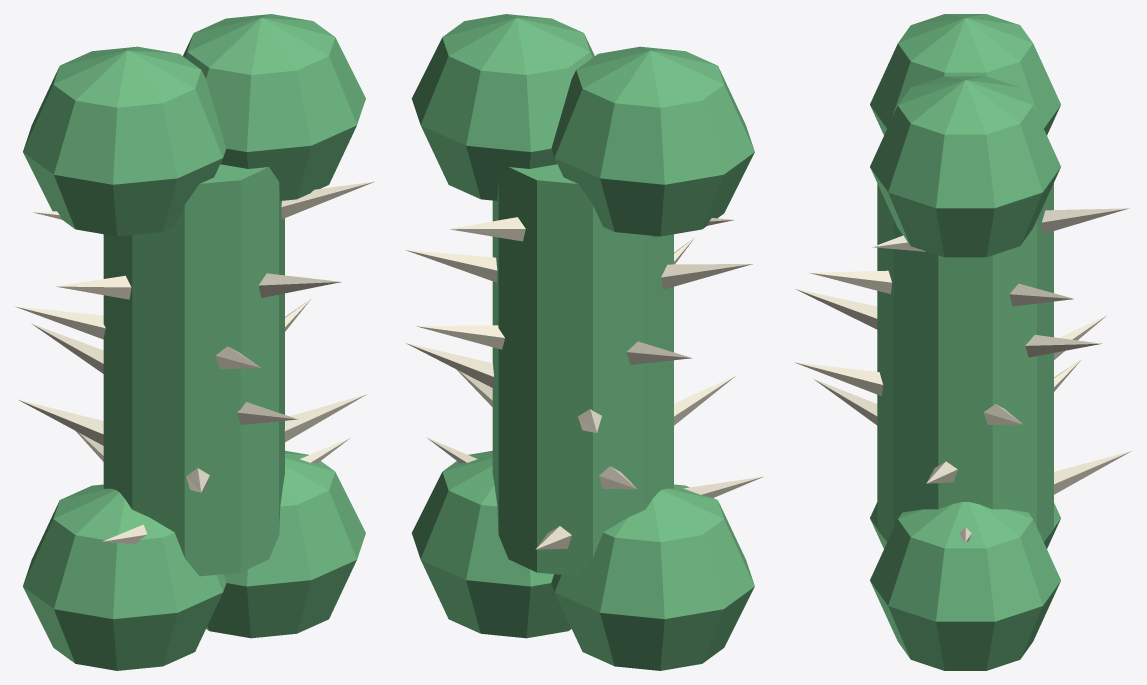
The model's file is magnet.glb.
The picture shows the model from 3 angles, left to right: view 1: azimuth 30°, elevation 25°; view 2: azimuth 150°, elevation 25°; view 3: azimuth 270°, elevation 25°; orthographic projection. The views are drawn at different scales.
Parts seen in each view (by area): view 1: magnet; view 2: magnet; view 3: magnet.
Part boxes in pixels (bbox=[...]): magnet: bbox=[14, 14, 374, 670]; magnet: bbox=[404, 14, 763, 670]; magnet: bbox=[794, 14, 1131, 670].
Bounding box in the file's own units: 0.4803 × 0.9 × 0.4719.
